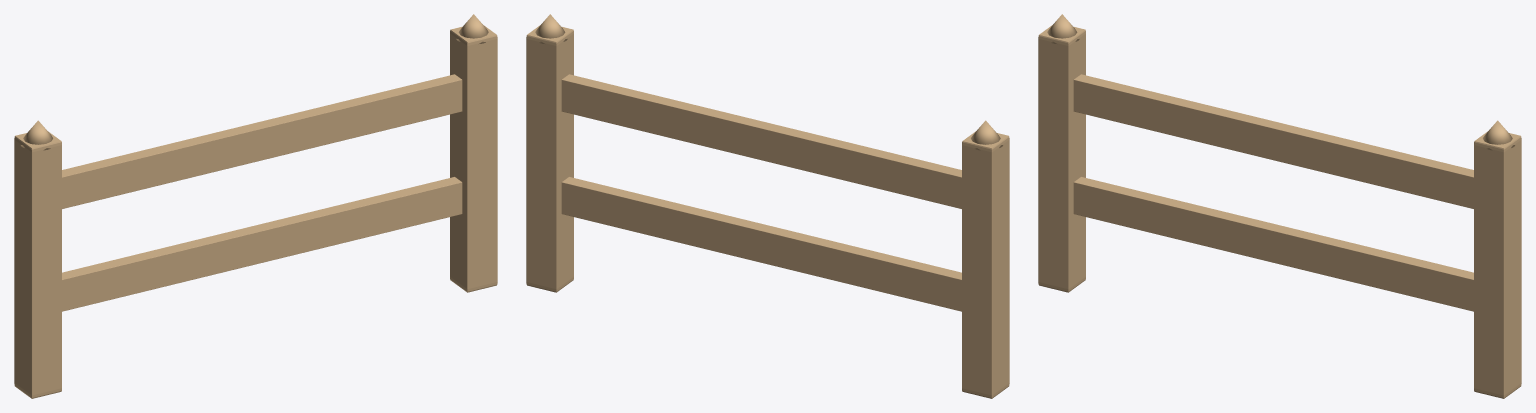
Rendered from world_fence.glb.
3 renders of one model, left to right at view 1: azimuth 30°, elevation 25°; view 2: azimuth 150°, elevation 25°; view 3: azimuth 330°, elevation 25°, orthographic.
Visible parts, largest first — view 1: world_fence; view 2: world_fence; view 3: world_fence.
Boxes of the visible parts, x1,y1,x2,y2 form: world_fence: [14, 14, 497, 398]; world_fence: [526, 14, 1009, 398]; world_fence: [1038, 14, 1521, 398].
Size of the model in its own units: 2.15 by 1.18 by 0.15.
